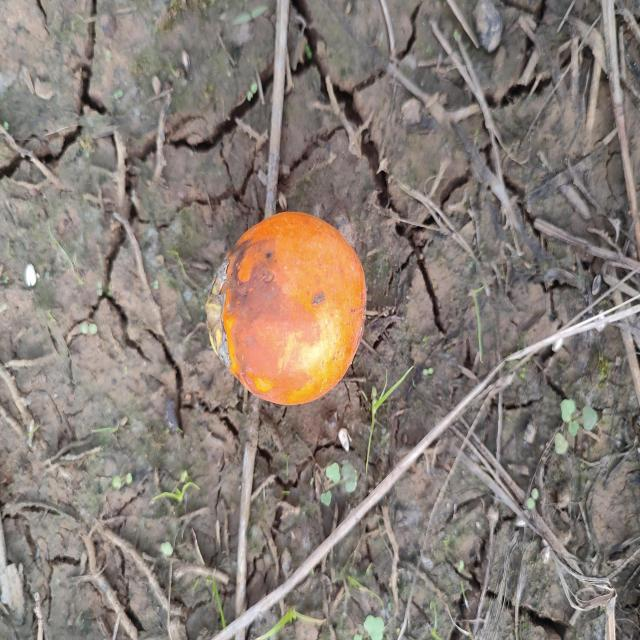good: (216, 213, 367, 409)
